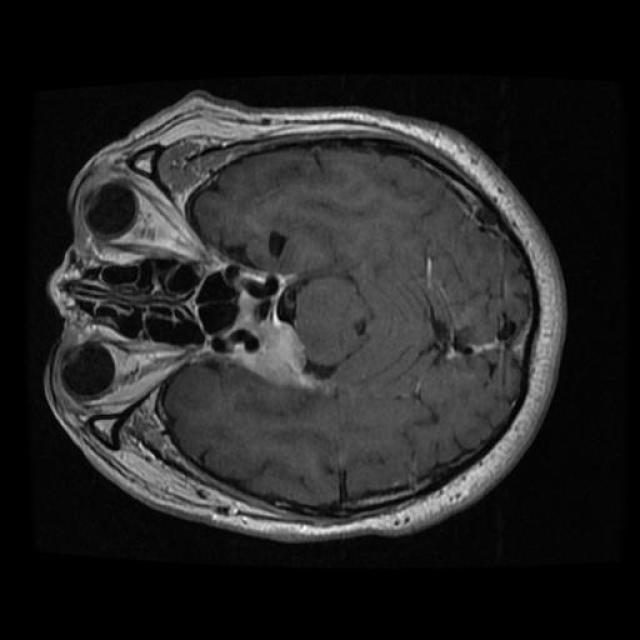Meningioma: (232, 308, 321, 389)
